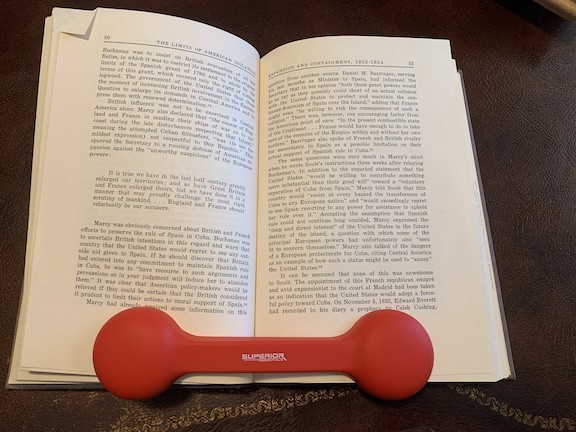Open Book: (29, 11, 510, 385)
